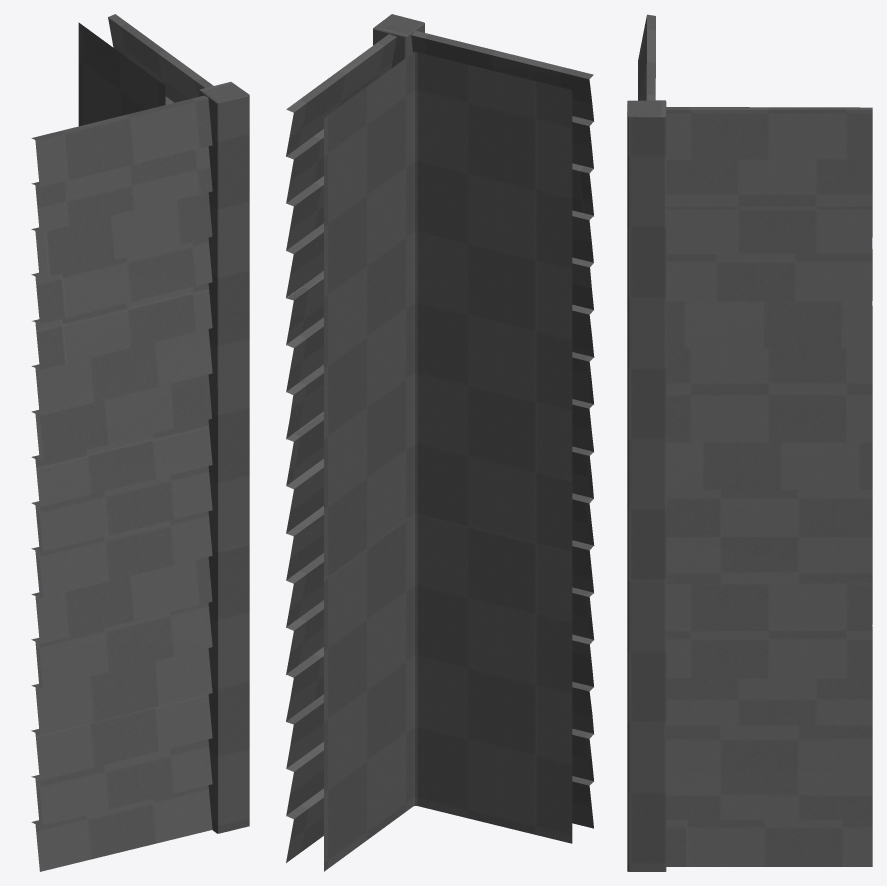
File: SM_House_ExtWall_Corner_A5.glb
The picture shows the model from 3 angles, left to right: view 1: azimuth 30°, elevation 25°; view 2: azimuth 150°, elevation 25°; view 3: azimuth 270°, elevation 25°; orthographic projection. The views are drawn at different scales.
Visible parts, largest first — view 1: SM_House_ExtWall_Corner_A5; view 2: SM_House_ExtWall_Corner_A5; view 3: SM_House_ExtWall_Corner_A5.
Boxes of the visible parts, x1,y1,x2,y2 form: SM_House_ExtWall_Corner_A5: (31, 14, 249, 871); SM_House_ExtWall_Corner_A5: (286, 14, 594, 871); SM_House_ExtWall_Corner_A5: (627, 14, 872, 871).
Bounding box in the file's own units: 94.47 × 321 × 94.31.
Materials: 1 (1 with a texture image).
